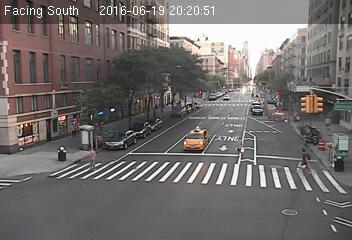neg: (114, 148, 137, 178), (260, 174, 281, 203), (26, 76, 47, 103), (206, 145, 226, 171), (141, 177, 160, 203), (103, 36, 122, 61), (62, 36, 80, 60), (320, 171, 338, 195), (216, 25, 233, 47), (201, 183, 217, 205), (266, 126, 282, 147), (91, 176, 107, 196), (261, 19, 276, 39), (18, 175, 33, 195), (176, 33, 189, 51), (21, 139, 34, 157), (129, 14, 142, 31), (47, 173, 60, 190), (248, 110, 260, 127), (274, 94, 286, 110), (218, 105, 230, 121), (56, 140, 68, 156), (293, 32, 305, 47), (173, 5, 185, 20), (148, 135, 159, 151), (183, 128, 194, 143), (149, 74, 160, 89), (256, 59, 266, 73), (311, 72, 321, 86), (244, 12, 254, 26), (321, 38, 331, 51), (281, 66, 291, 79), (181, 102, 190, 115), (233, 89, 242, 101), (251, 86, 260, 98), (124, 106, 133, 117), (234, 63, 241, 73)
pos: (80, 145, 99, 170), (295, 148, 312, 171), (321, 115, 335, 134), (66, 119, 79, 137)
